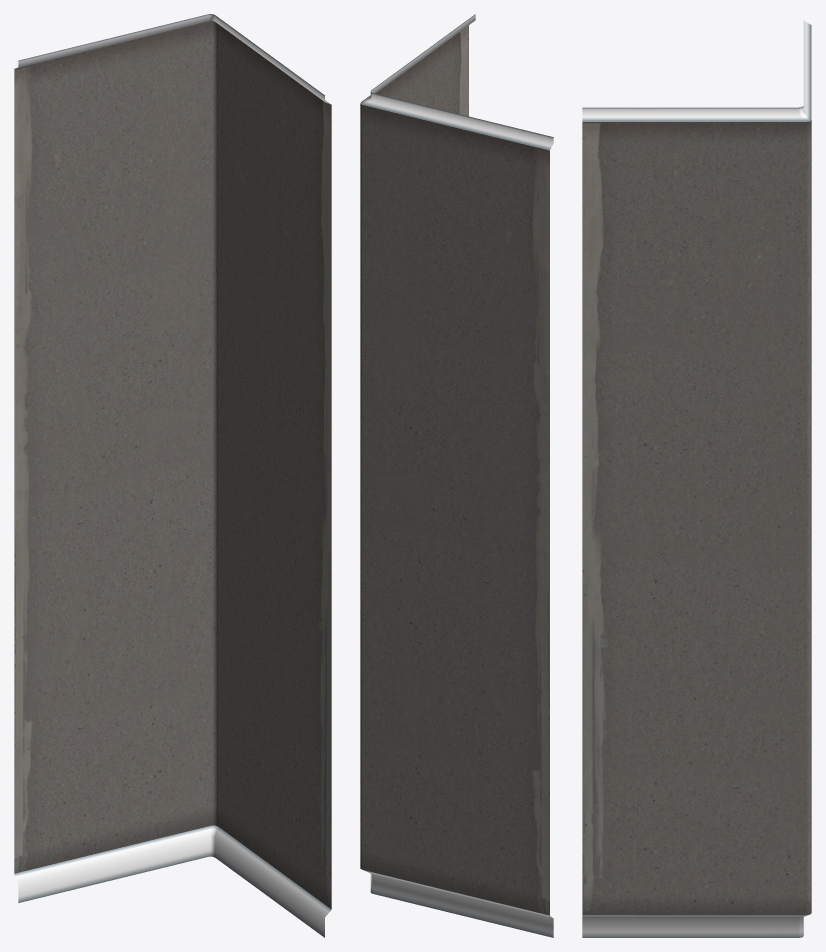
The model's file is waitingroom_drywall_concave_short.dae.
The picture shows the model from 3 angles, left to right: view 1: azimuth 30°, elevation 25°; view 2: azimuth 150°, elevation 25°; view 3: azimuth 270°, elevation 25°; orthographic projection. The views are drawn at different scales.
Parts seen in each view (by area): view 1: polySurface30, polySurface31; view 2: polySurface30, polySurface31; view 3: polySurface30, polySurface31.
Boxes of the visible parts, x1,y1,x2,y2 form: polySurface30: (14,20,331,909); polySurface31: (14,14,331,937); polySurface30: (360,25,549,915); polySurface31: (360,14,553,937); polySurface30: (582,120,811,914); polySurface31: (582,21,811,937).
Size of the model in its own units: 1 by 4 by 1.
Materials: 2 (2 with a texture image).
